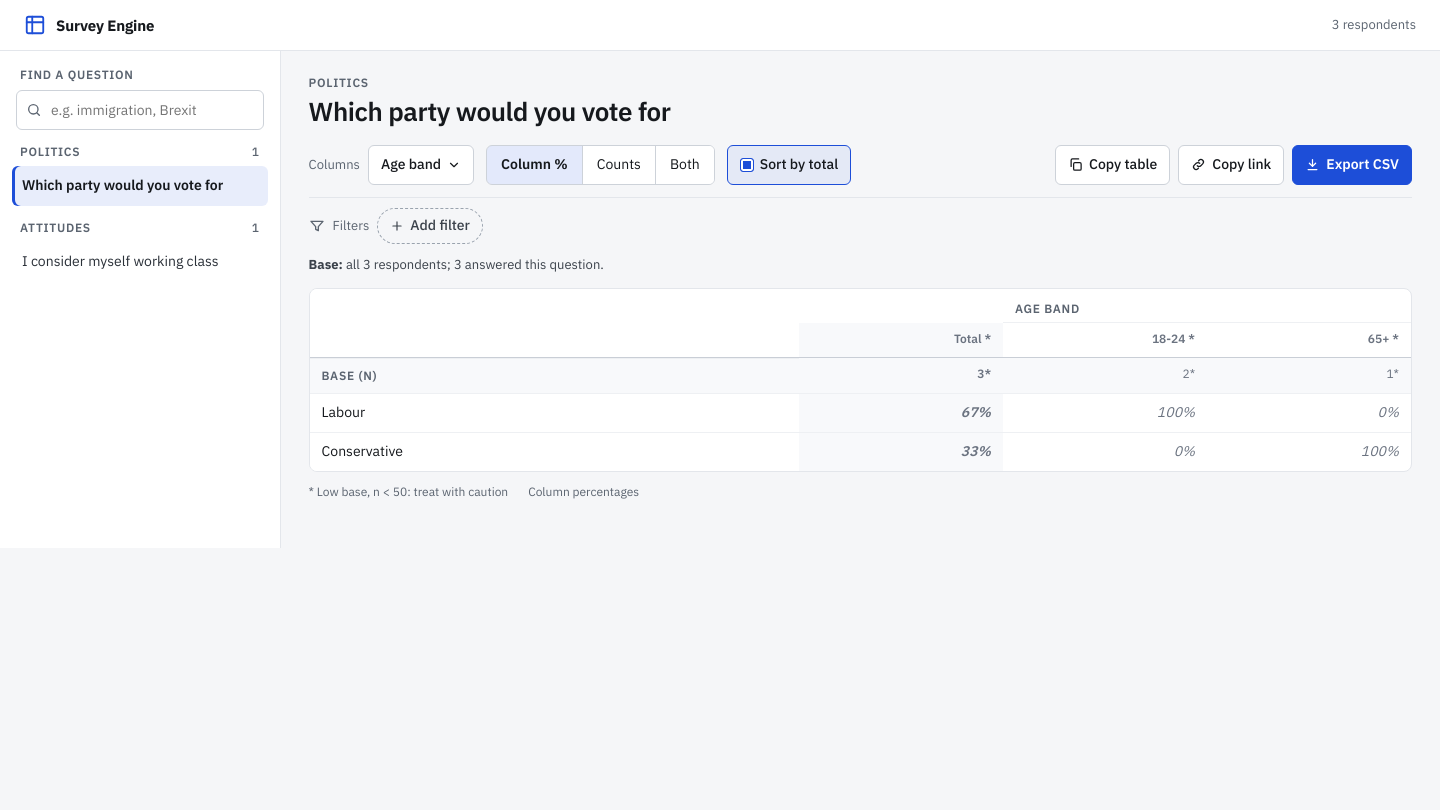
Test: switching columns to total only drops group_by
expect the table is shown: met, box [310, 289, 1411, 471]
Click the button "Age band": (421, 165) [368, 145, 474, 185]
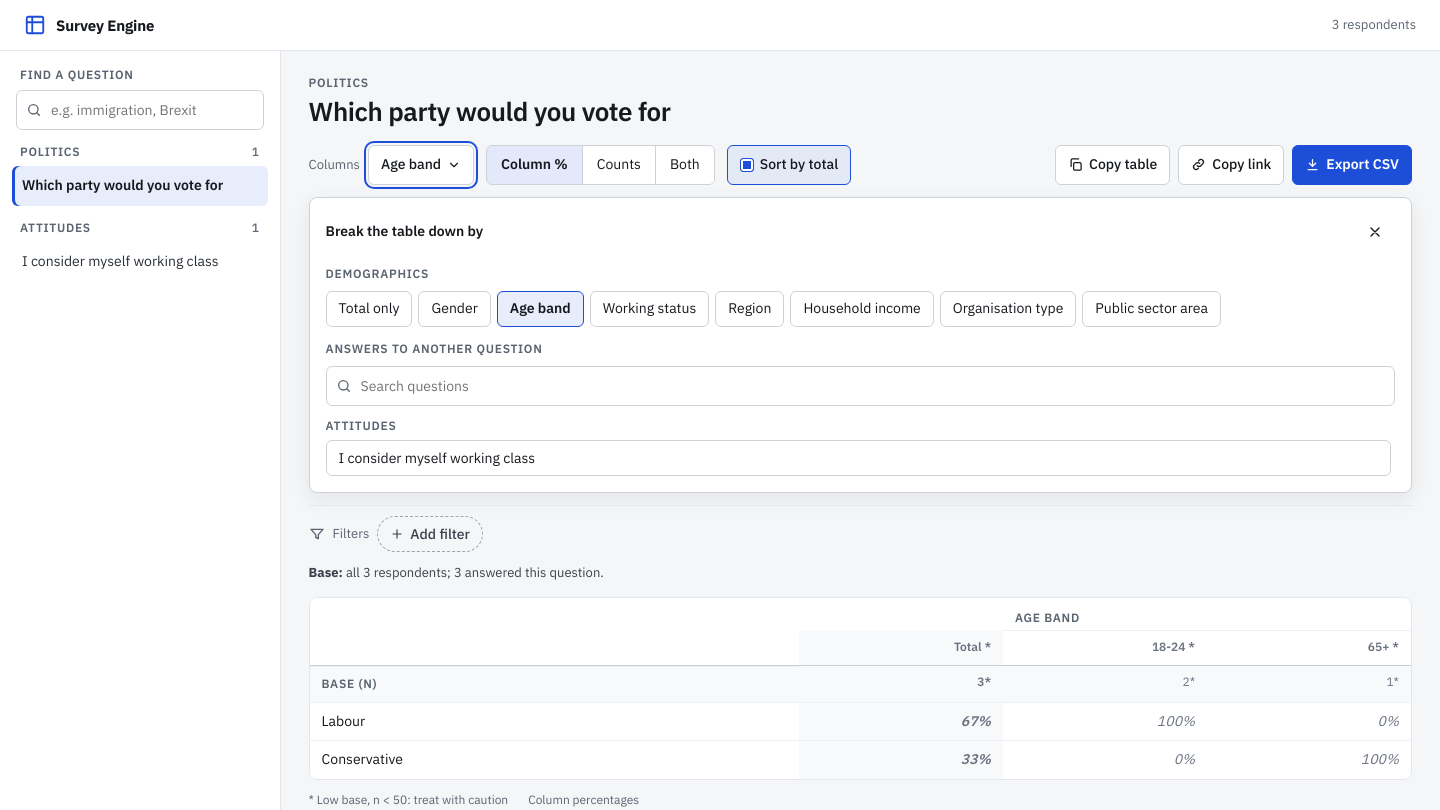
Click the button "Total only": (369, 309) [326, 291, 412, 327]
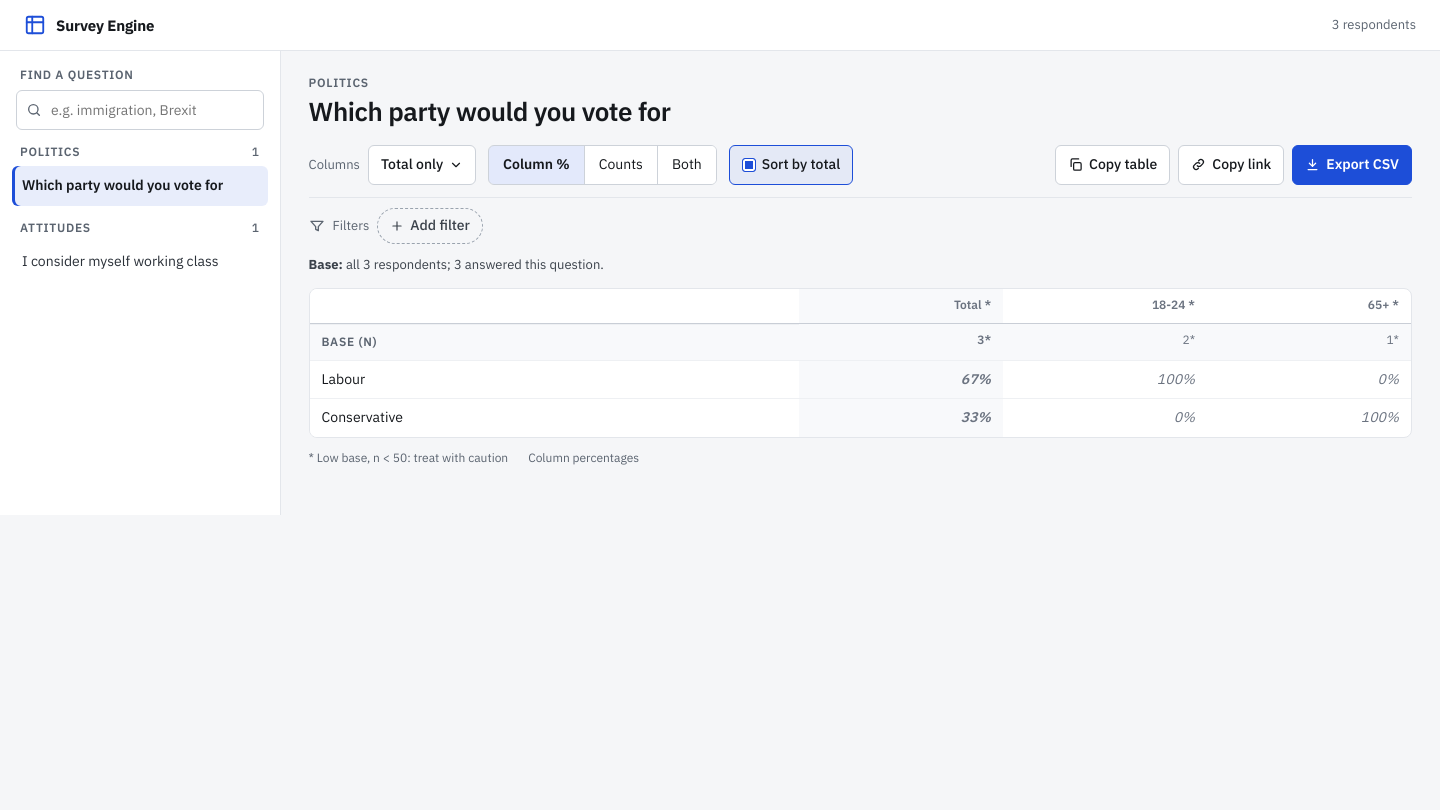
expect the text "Break the table down by" is gone: met
